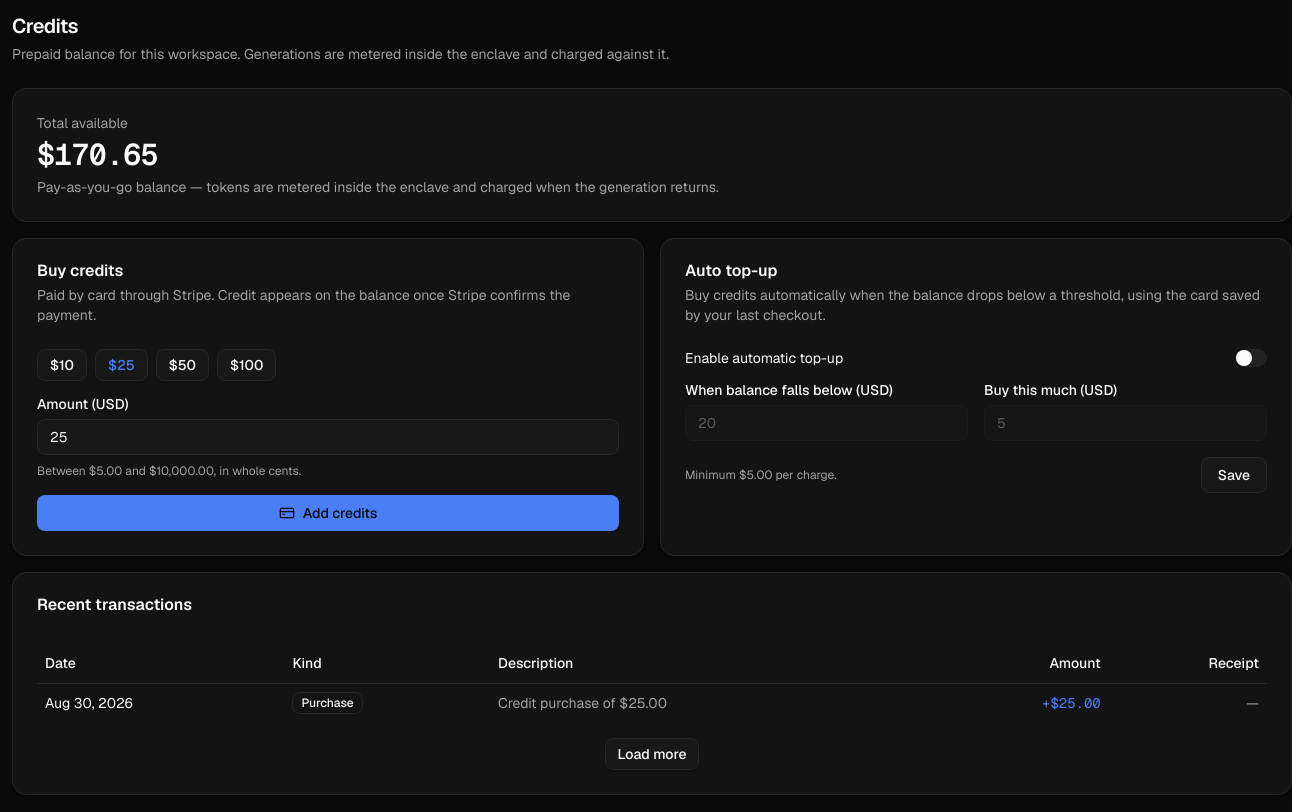
Test: CreditsScreen › appends the next page of the ledger instead of replacing it
Click the button "Load more" at point(652, 754), box [604,738,700,770]
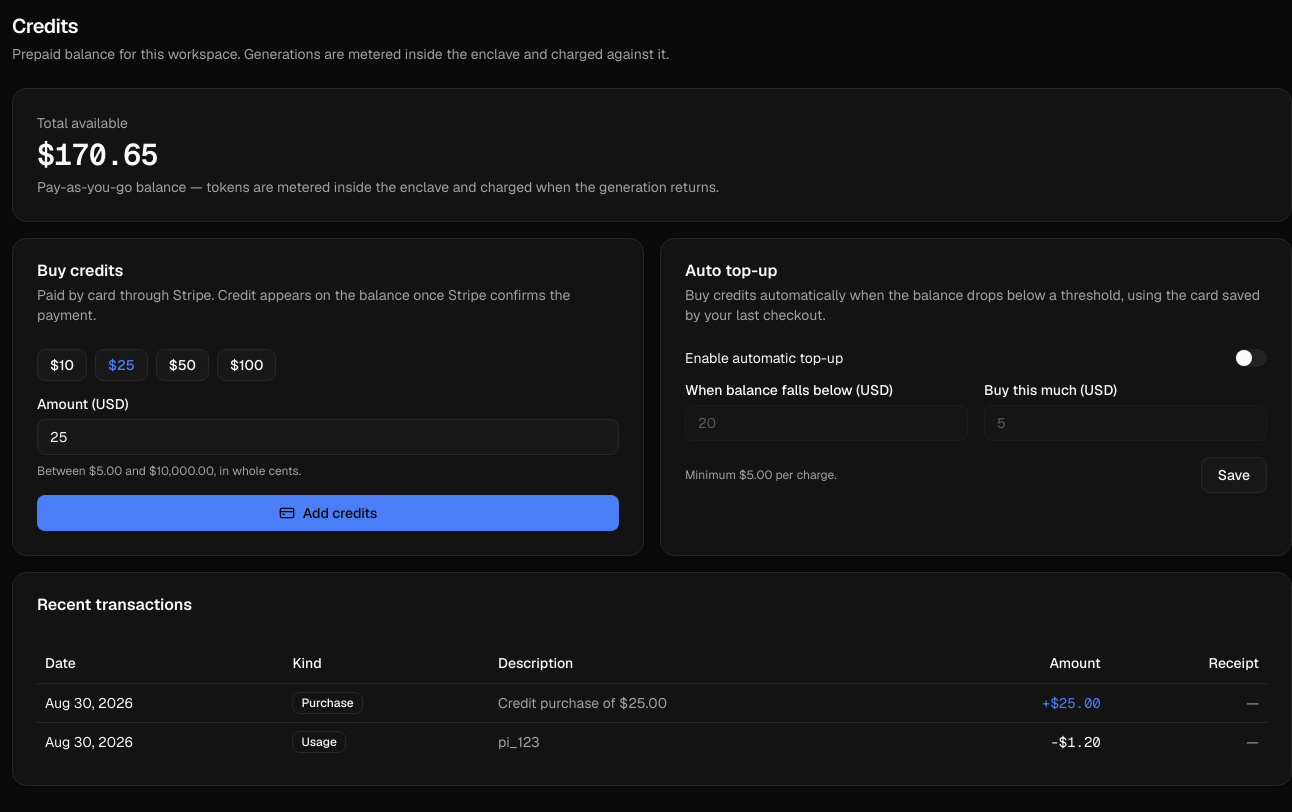
Expected: the text "+$25.00" is shown, [931,683,1109,722]
Expected: the text "-$1.20" is shown, [931,722,1109,760]
Expected: the button "Load more" is gone
